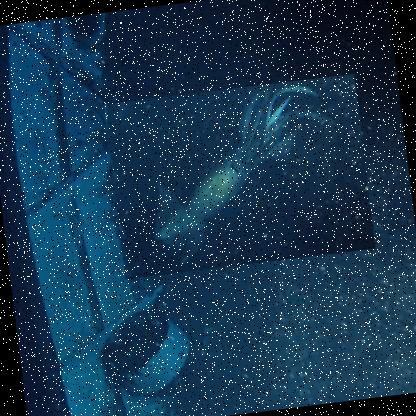colossal_squid: (103, 71, 376, 278)
